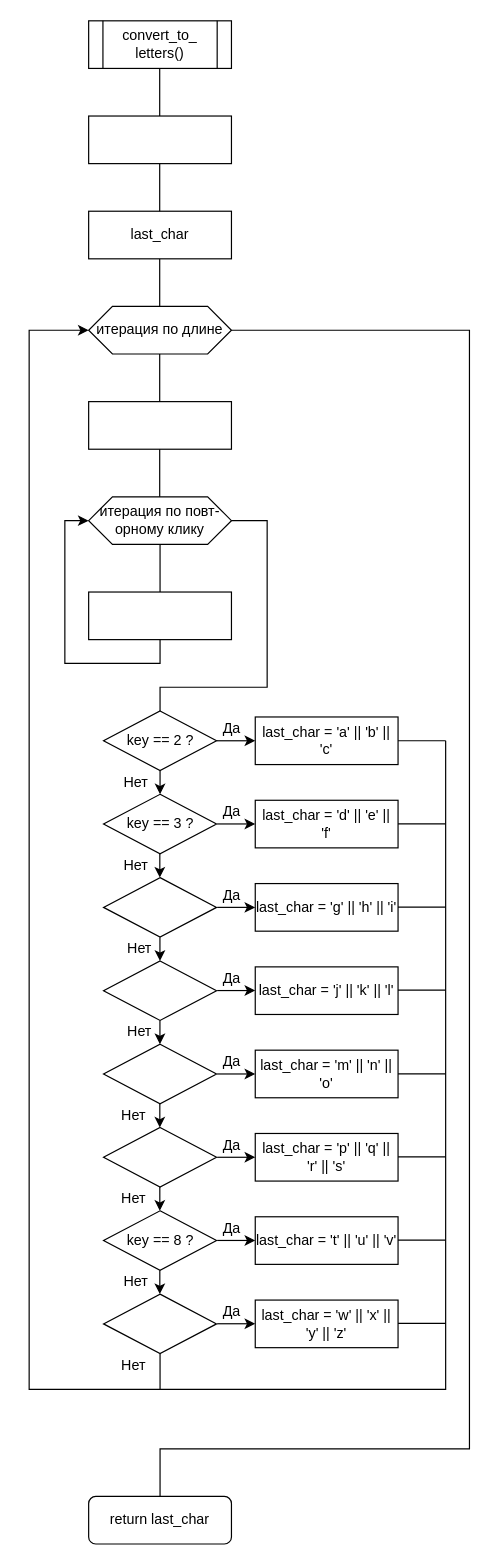
The diagram is 491 pixels wide and 1565 high, and some of its shapes have lost their labels. Each missing label, with the centre of its shape:
key == 4 ?: point 159,906
key == 5 ?: point 159,990
key == 6 ?: point 159,1073
key == 7 ?: point 159,1156
key == 9 ?: point 159,1323
key, press_count: point 159,424
press_count++: point 159,615
массив кликов и длина: point 159,139
